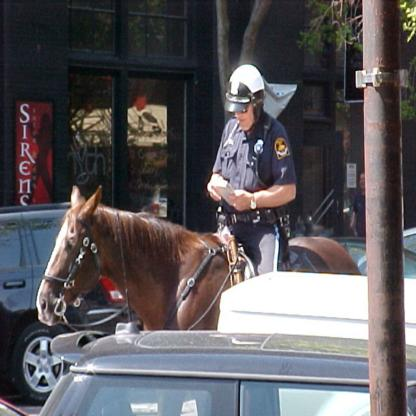Helmet: (226, 62, 266, 148)
